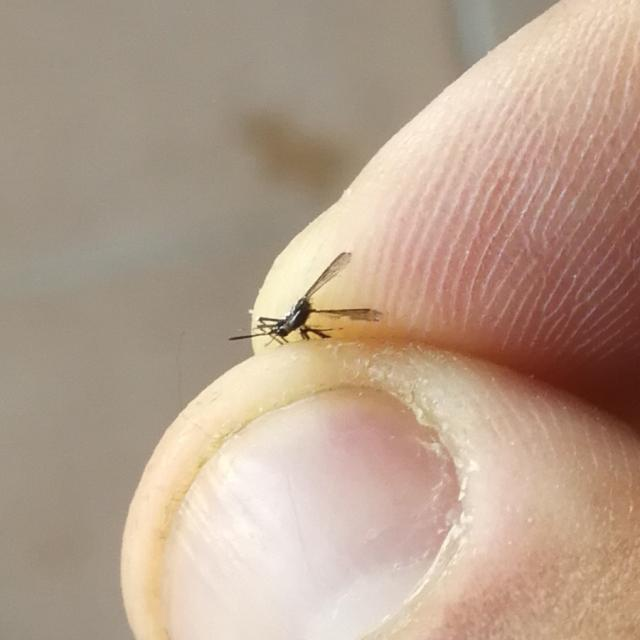albopictus: (226, 243, 388, 354)
